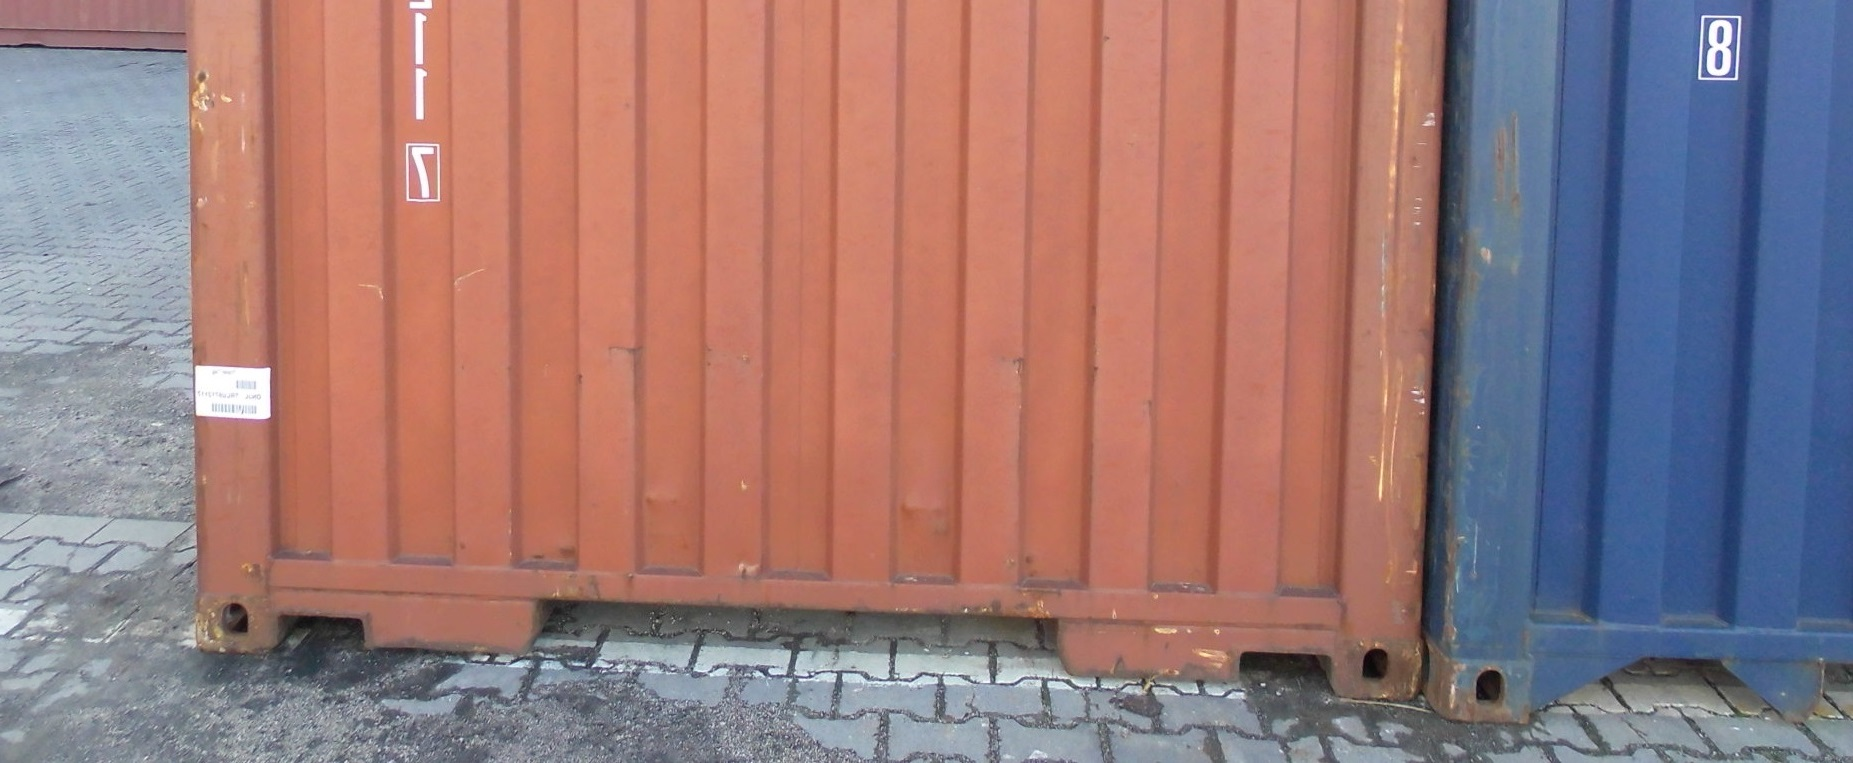container_no_door: (204, 1, 1425, 699)
